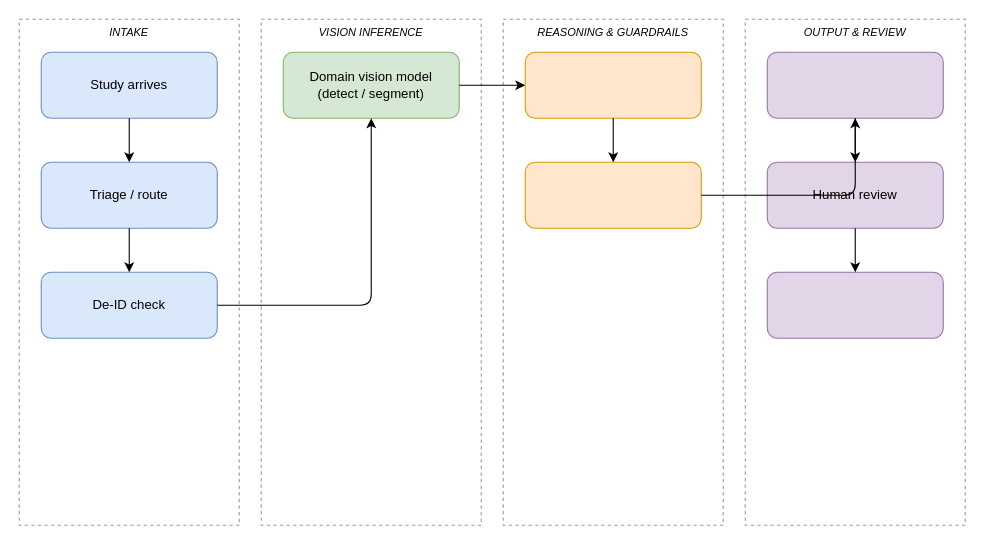
This 985x545 diagram has some shape labels left out. Here are the shapes that lost their labels. From the top down, the box of each, then its label:
(524, 51, 701, 118): VLM reasoning / report drafting
(766, 51, 943, 118): Structured output (FHIR)
(524, 161, 701, 228): Evaluation / guardrails
(766, 271, 943, 338): Persist + audit
